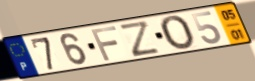5: (189, 10, 223, 45)
6: (60, 32, 89, 66)
7: (29, 36, 56, 72)
F: (89, 25, 120, 62)
O: (158, 14, 197, 51)
Z: (117, 19, 162, 58)
